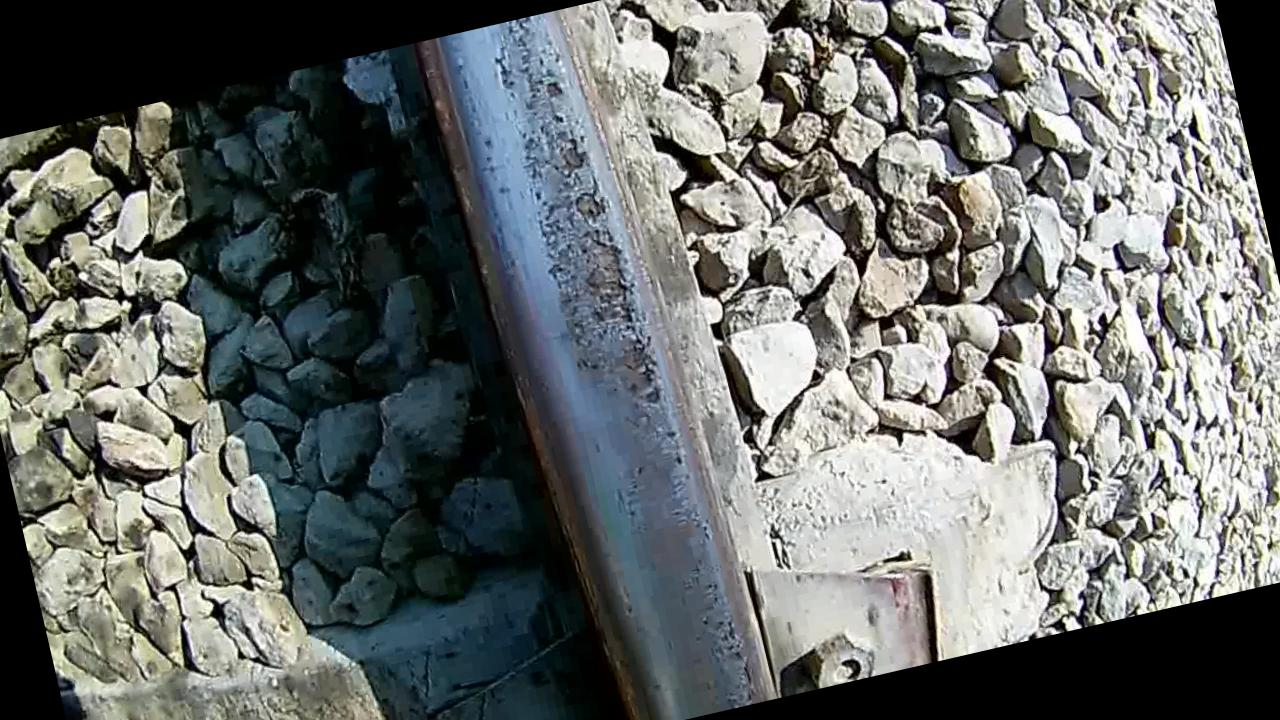crack: (438, 0, 775, 720)
